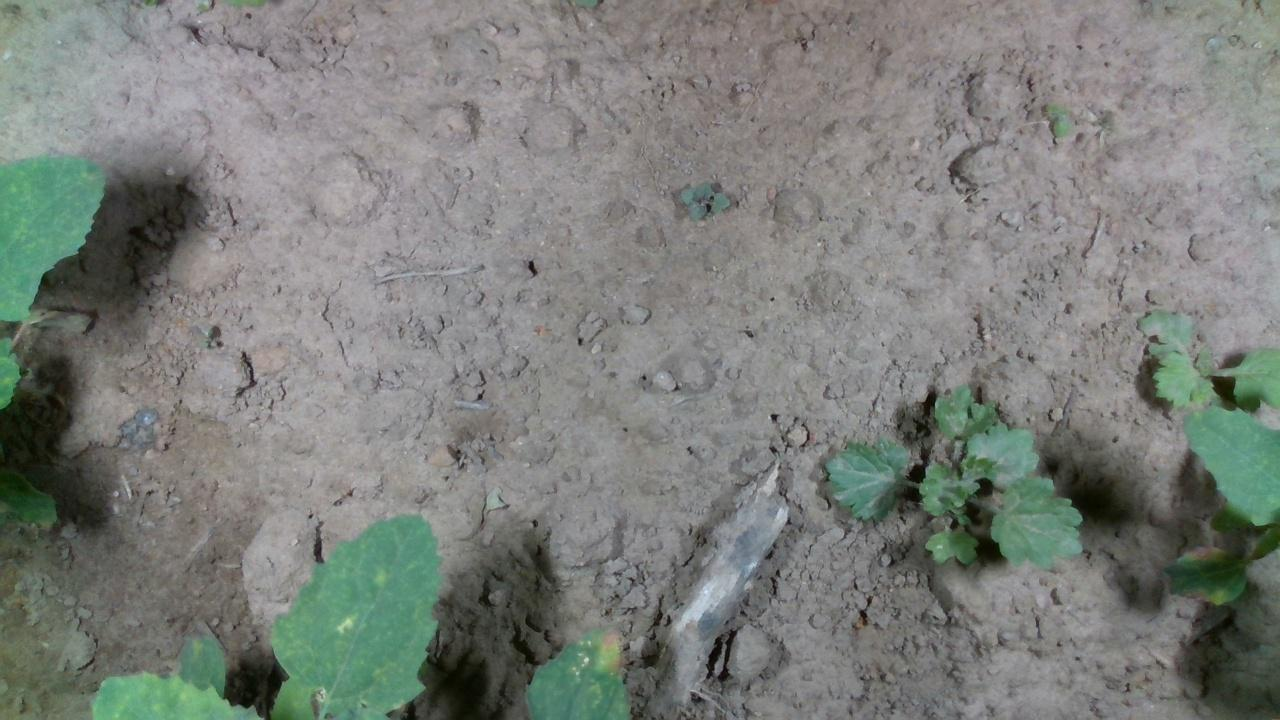weed: (677, 179, 728, 223), (1041, 97, 1074, 140)
